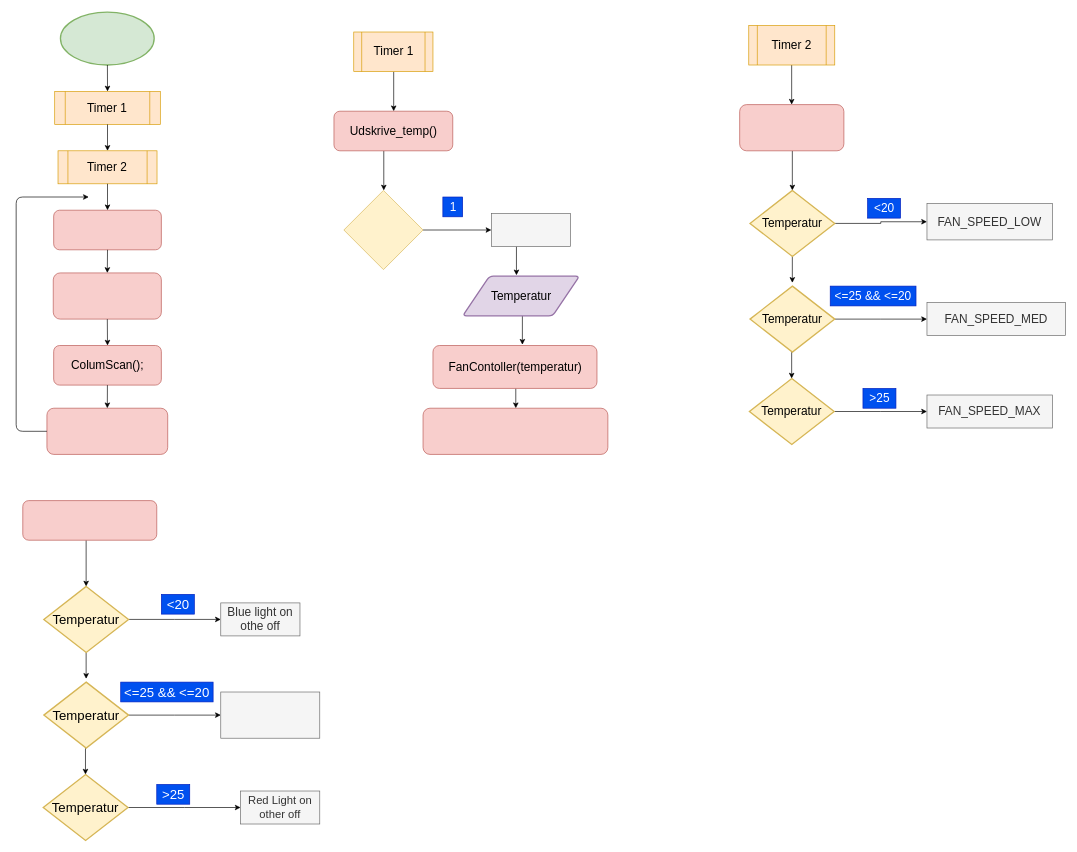
The diagram is 1077 pixels wide and 852 high, and some of its shapes have lost their labels. The shapes that lost their labels are listed below. From the top down, each one's centre as x and y in pixels, then its label:
(107,38): Start
(791,127): FanController()
(107,230): Init
(383,230): ADCSRA
(531,230): UdregnADC
(107,295): ReadRows();
(107,431): DecodeKeyboard ()
(515,431): colorController(temperatur)
(89,520): colorController (temepratur)
(270,714): Green Light on other off
